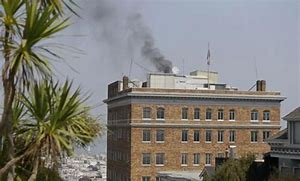smoke: (98, 10, 175, 70)
